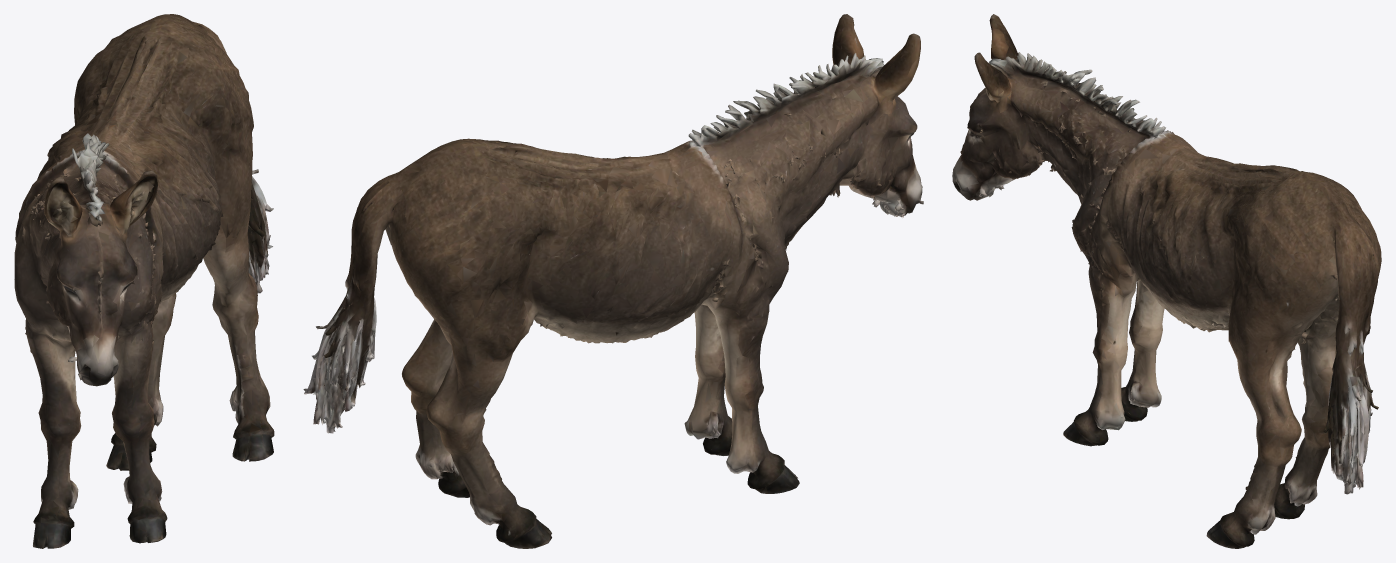
Rendered from nativity-donkey-pixal3d-runtime.glb.
The picture shows the model from 3 angles, left to right: view 1: azimuth 30°, elevation 25°; view 2: azimuth 150°, elevation 25°; view 3: azimuth 270°, elevation 25°; orthographic projection. The views are drawn at different scales.
Visible parts, largest first — view 1: geometry_0; view 2: geometry_0; view 3: geometry_0.
Part boxes in pixels (bbox=[...]): geometry_0: bbox=[14, 14, 274, 548]; geometry_0: bbox=[303, 14, 923, 548]; geometry_0: bbox=[952, 14, 1381, 548].
Size of the model in its own units: 1.61 by 1.65 by 1.61.
Materials: 1 (1 with a texture image).
